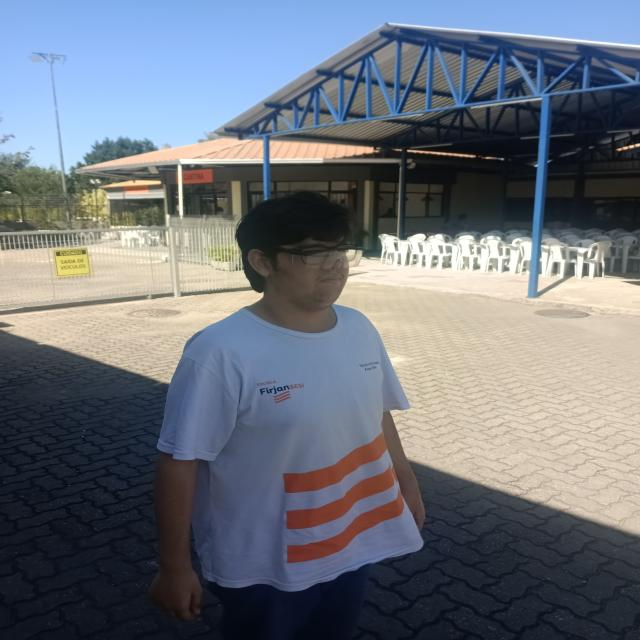oculos-epi: (260, 243, 366, 270)
